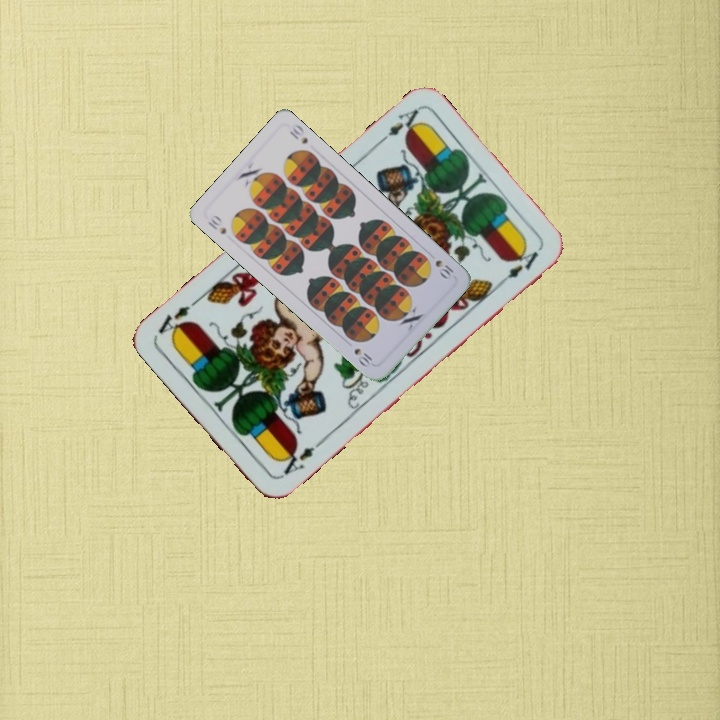EA: (373, 105, 425, 148), (275, 441, 317, 481)
S10: (431, 256, 456, 282), (204, 211, 229, 237)
